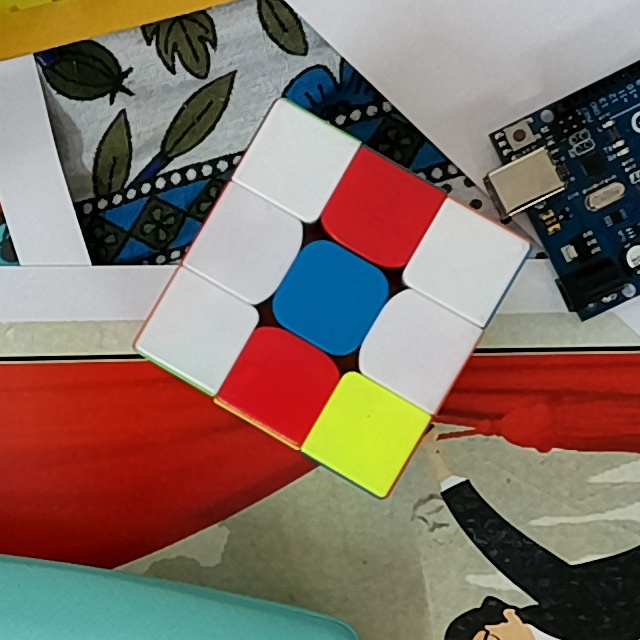tile: (381, 313, 452, 385), (294, 264, 365, 334), (347, 175, 415, 246), (332, 401, 401, 469), (213, 212, 282, 278), (260, 131, 331, 192), (251, 349, 316, 414), (164, 298, 232, 360), (432, 235, 498, 295)
